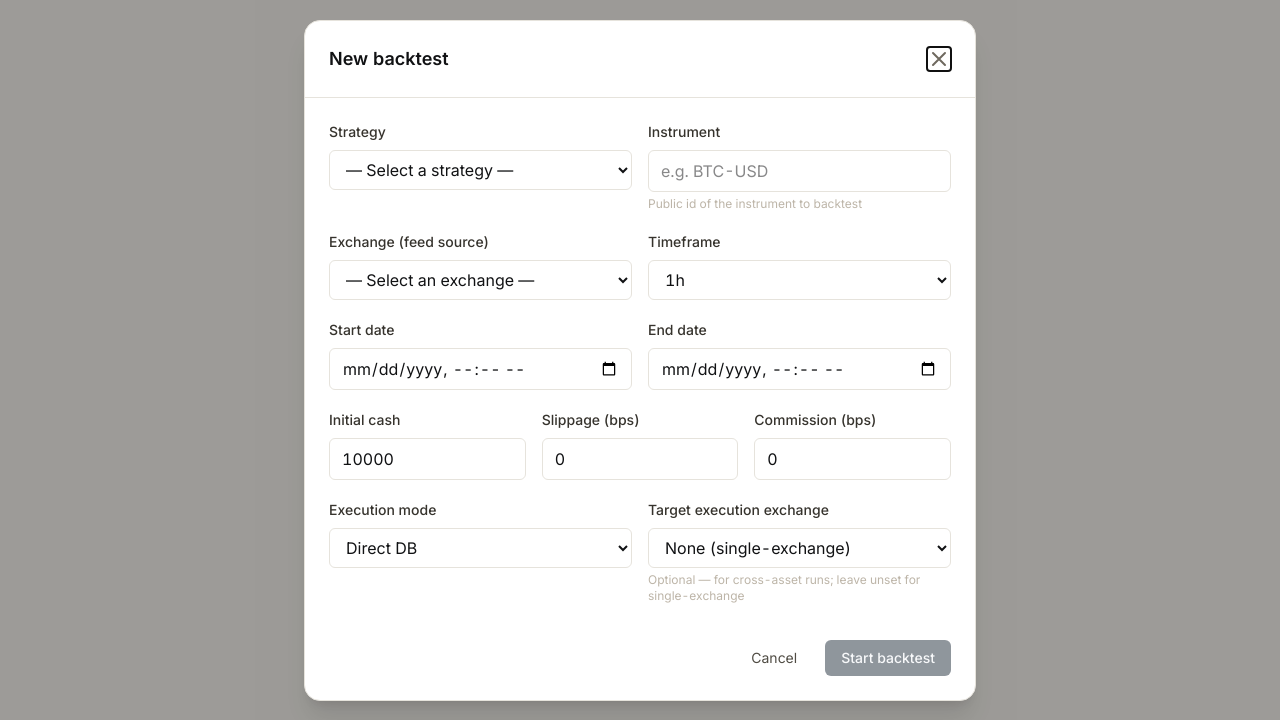
Test: BacktestCreateForm › blocks submit and shows a message when end date is not after start date
The image size is (1280, 720).
Select "MACDCrossover" in the dropdown labelled "Strategy" at (480, 170), box 329,150 -> 632,190
Type "BTC-USD" into the field labelled "Instrument" at (800, 170), box 648,150 -> 951,192
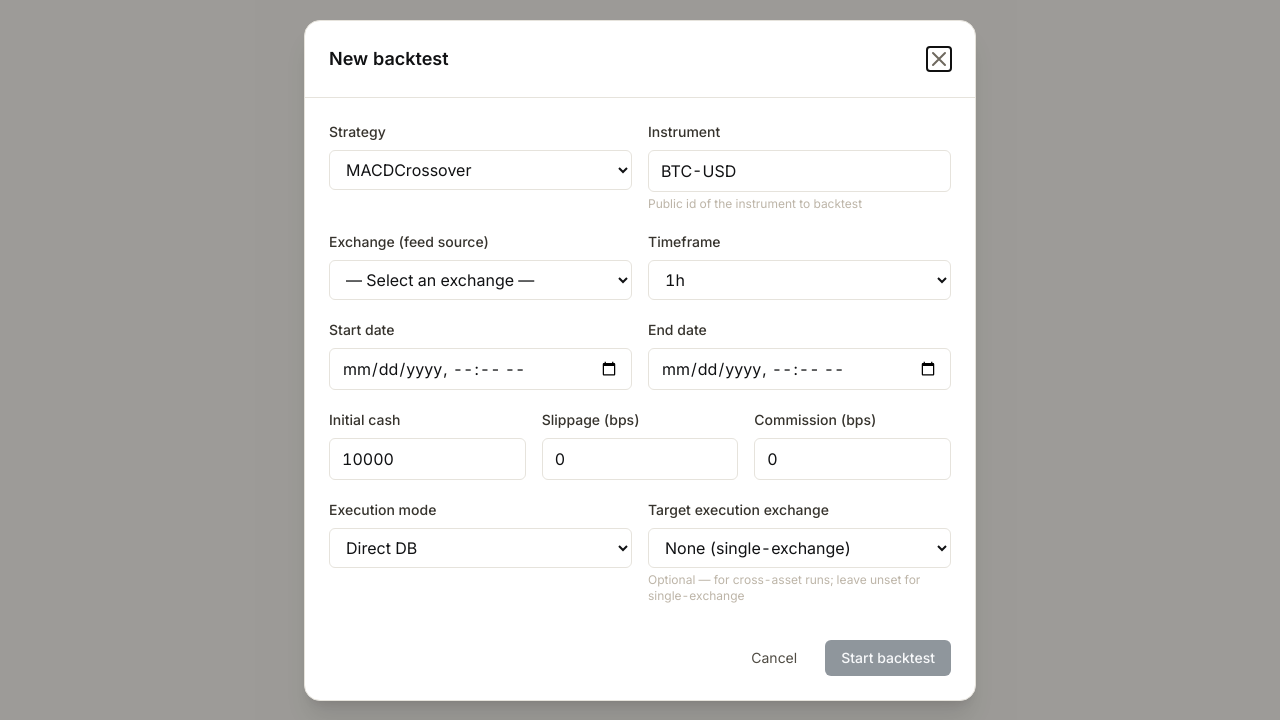
Select "kraken" in the dropdown labelled "Exchange (feed source)" at (480, 280), box 329,260 -> 632,300
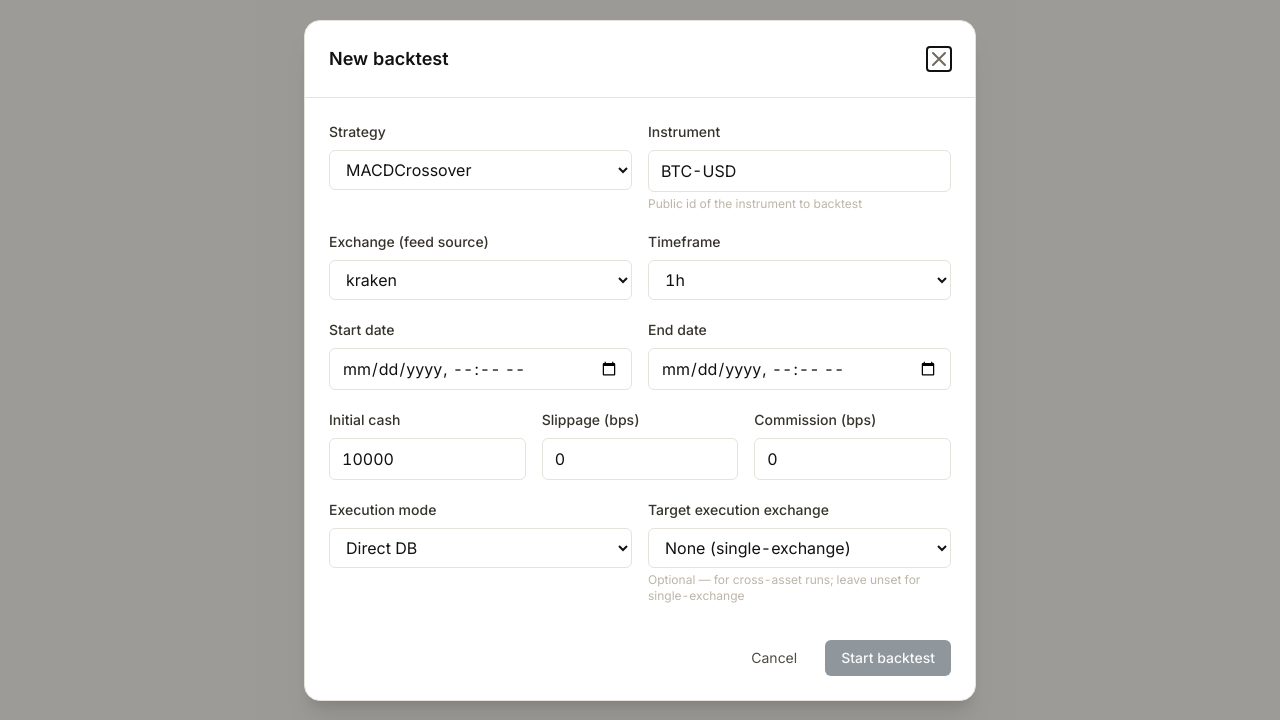
Type "2026-01-01T00:00" into the field labelled "Start date" at (480, 368), box 329,348 -> 632,390
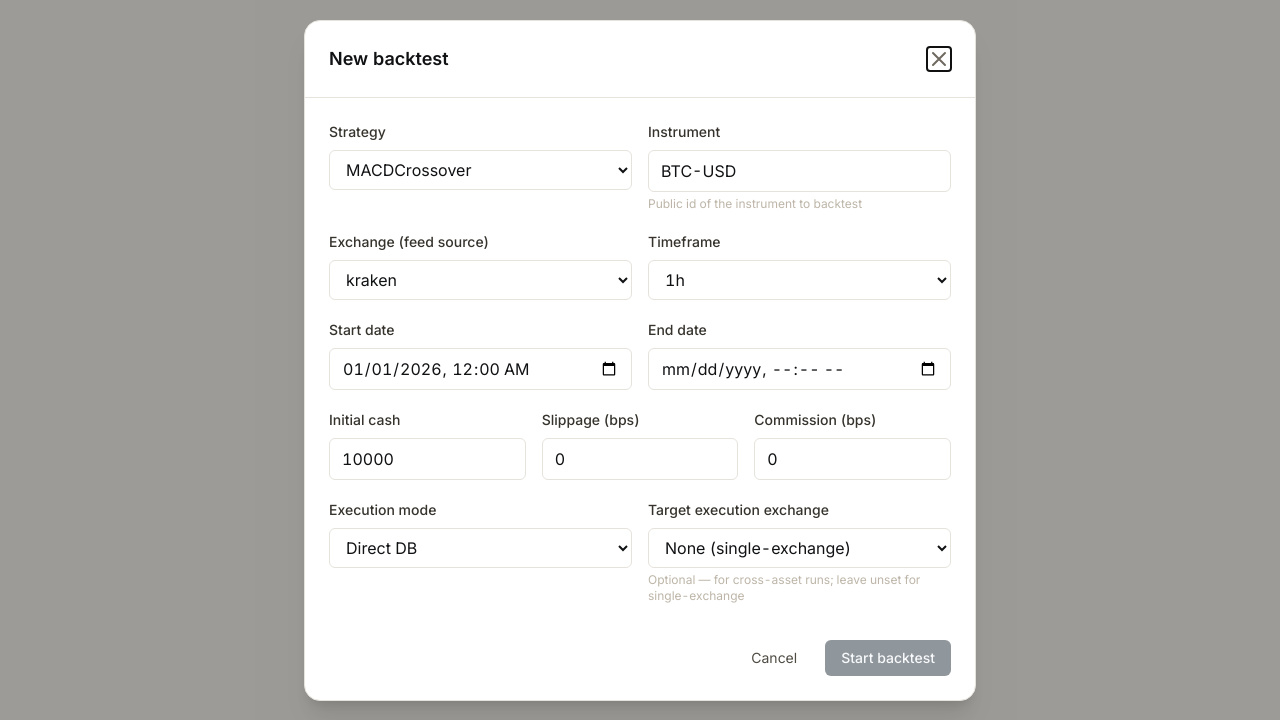
Type "2026-02-01T00:00" into the field labelled "End date" at (800, 368), box 648,348 -> 951,390
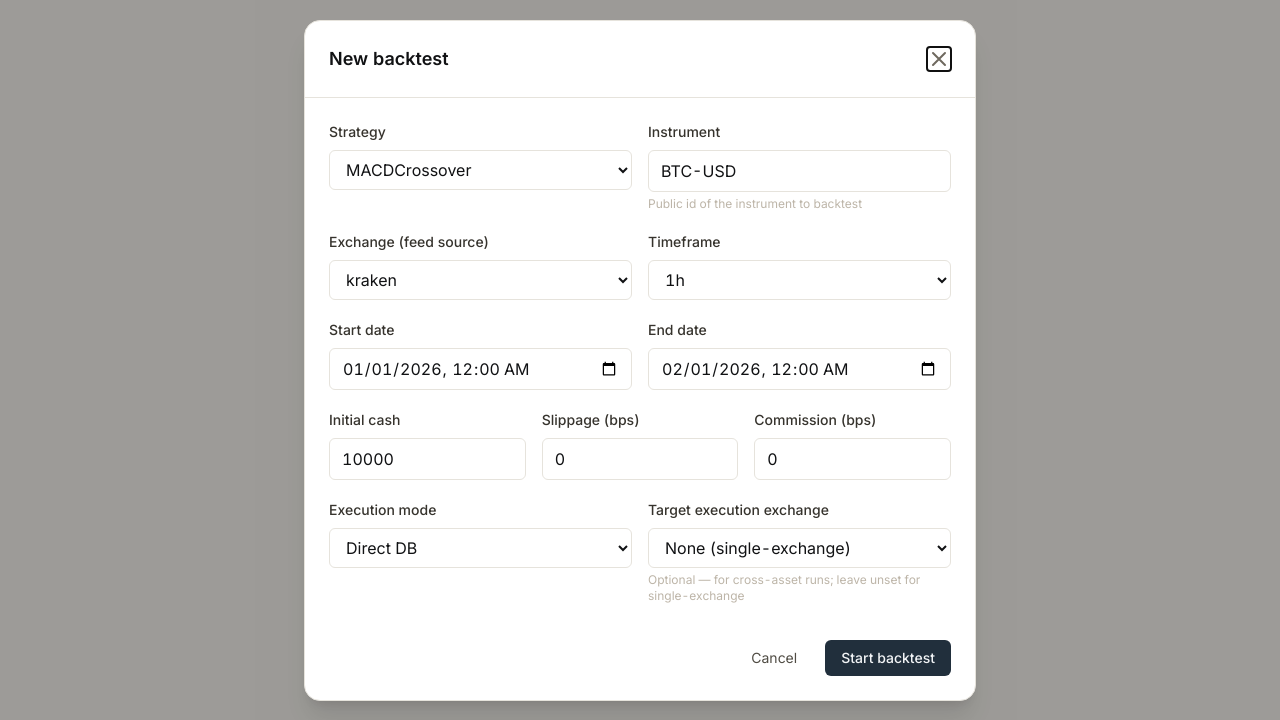
Replace the text in the field labelled "End date" with "2025-12-01T00:00" at (800, 368), box 648,348 -> 951,390
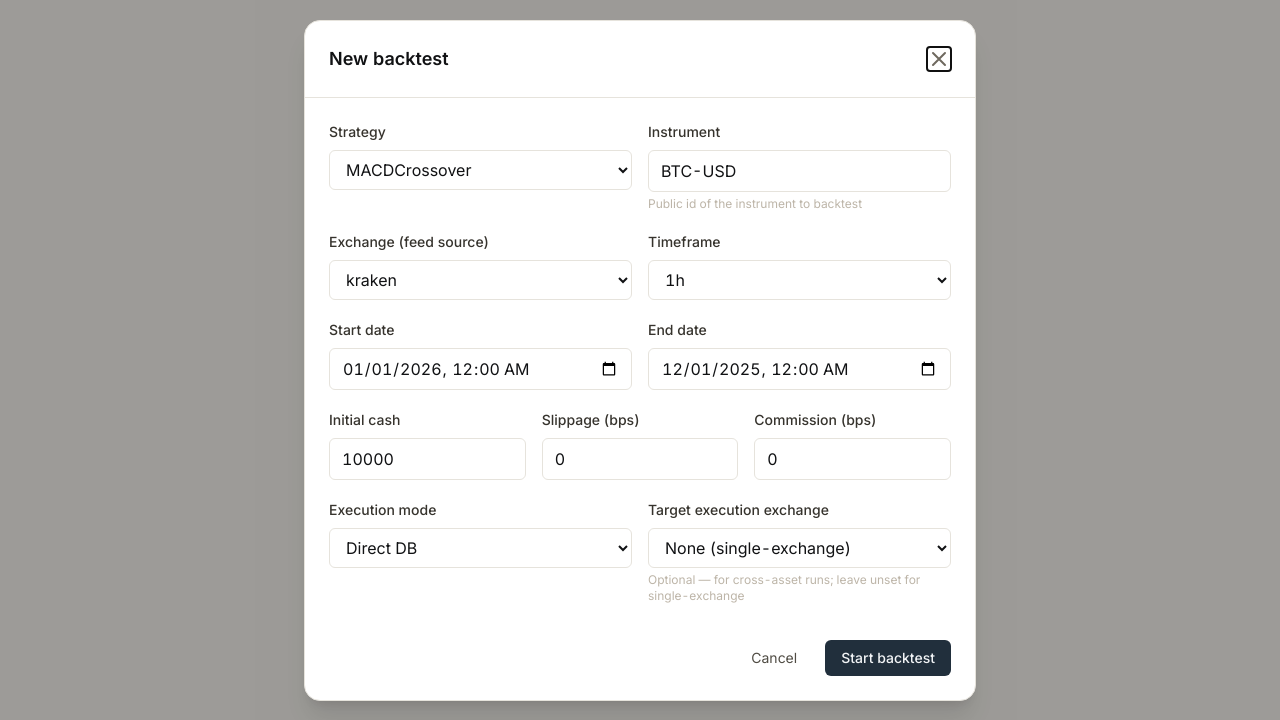
Click the button "Start backtest" at (888, 658), box 825,640 -> 951,676
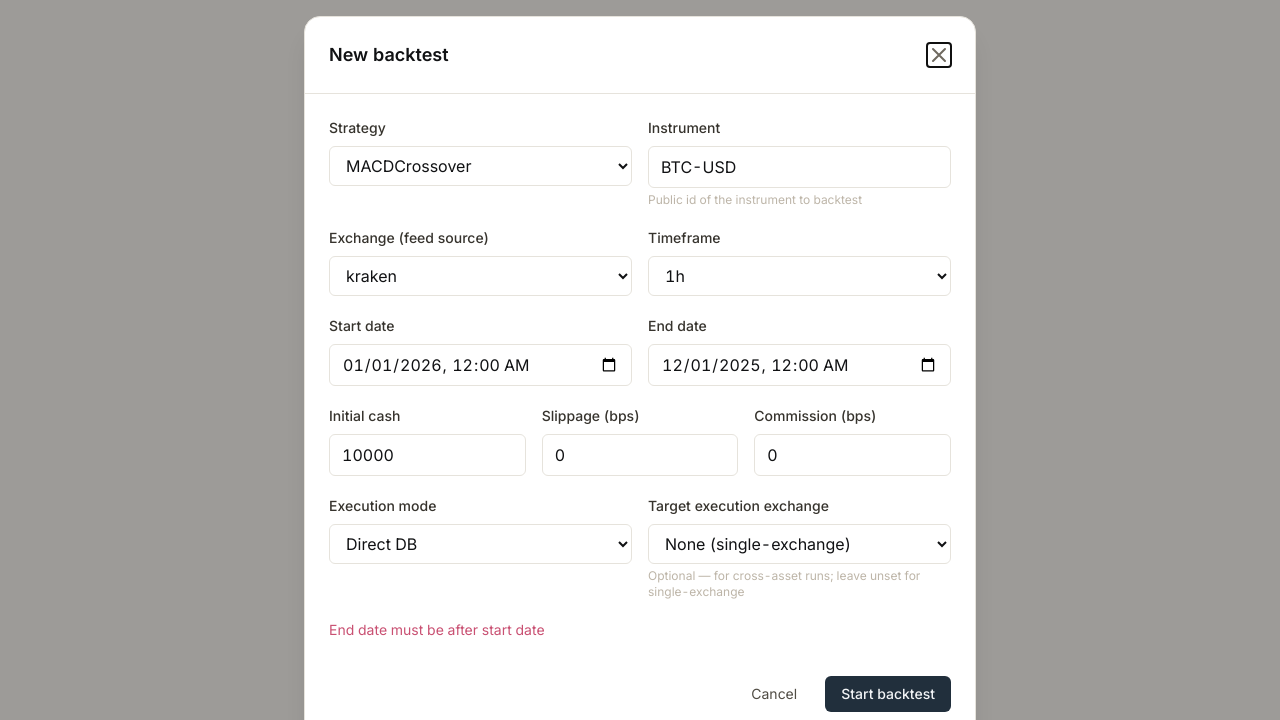
Check: the text "End date must be after start date" is shown, box 329,621 -> 545,638
